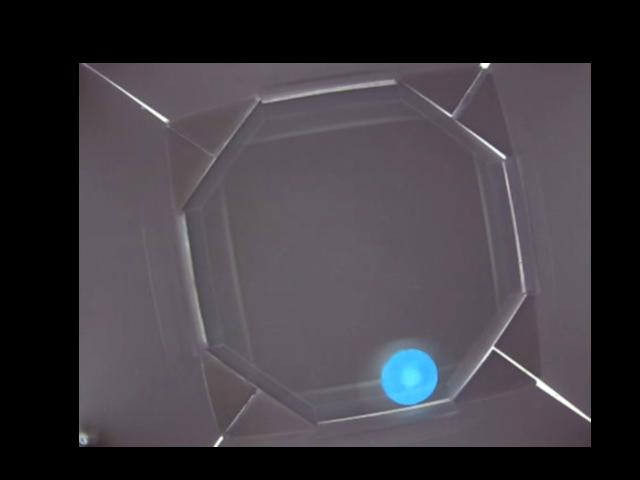Carrot: (380, 347, 439, 407)
